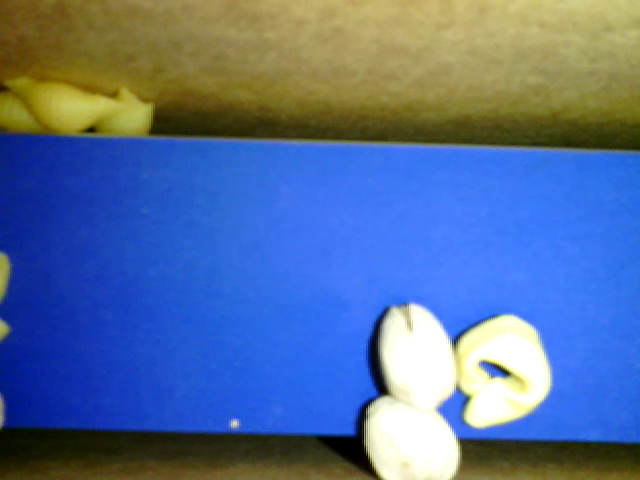shell: (1, 76, 130, 134), (93, 85, 151, 138), (1, 85, 59, 134)
tortellini: (455, 310, 552, 428)
